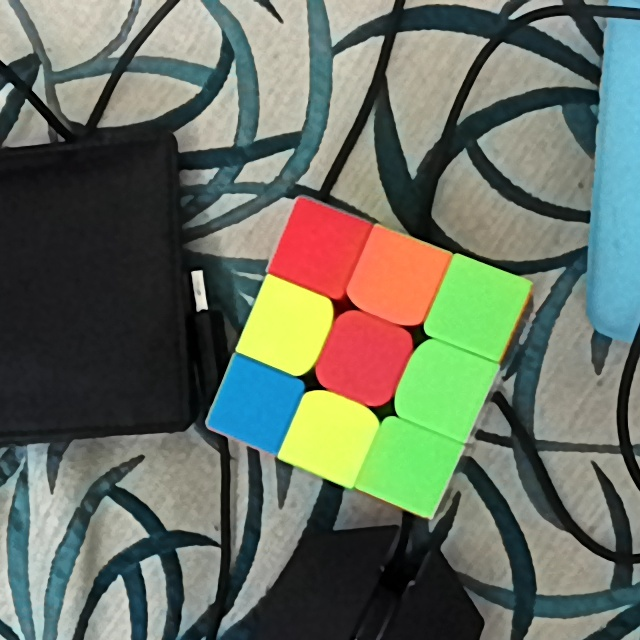tile: (413, 357, 474, 420), (364, 248, 428, 307), (446, 282, 508, 342), (337, 326, 395, 387), (287, 220, 346, 277), (297, 413, 362, 464), (224, 379, 283, 432), (260, 300, 314, 356), (376, 445, 438, 492)
